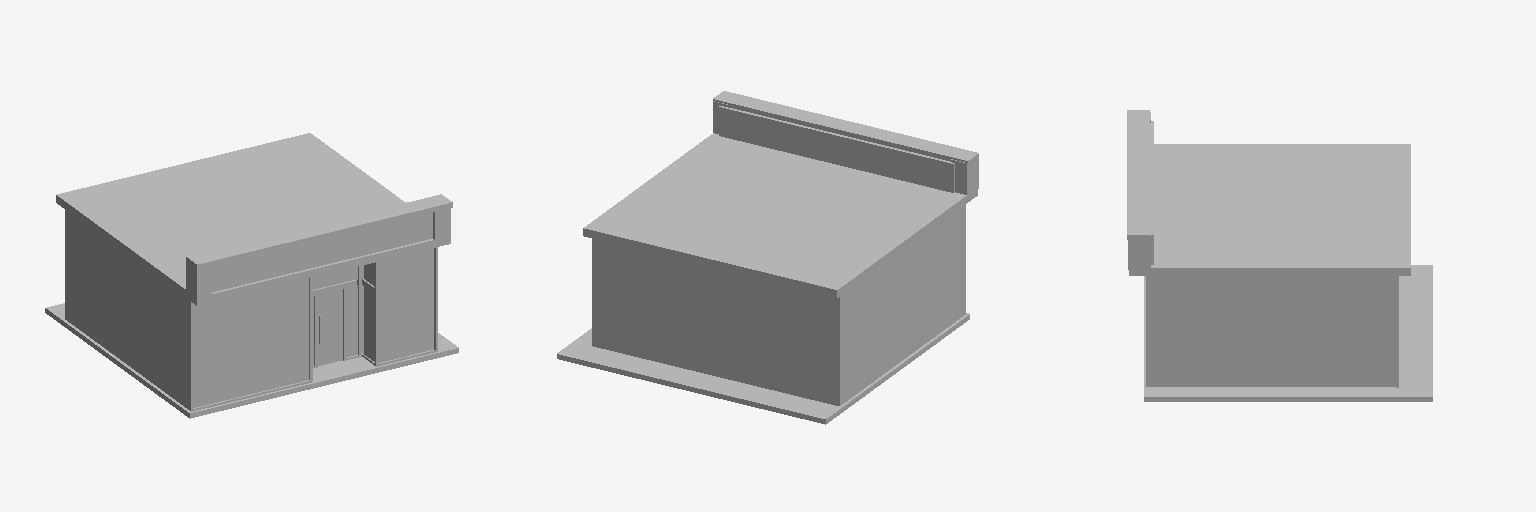
Rendered from Shopfront.obj.
3 renders of one model, left to right at view 1: azimuth 30°, elevation 25°; view 2: azimuth 150°, elevation 25°; view 3: azimuth 270°, elevation 25°, orthographic.
Parts seen in each view (by area): view 1: Window_(1); view 2: Window_(1); view 3: Window_(1).
Part boxes in pixels (x1,y1,x2,y2): Window_(1): (45, 133, 458, 418); Window_(1): (557, 91, 978, 424); Window_(1): (1127, 110, 1432, 401).
Size of the model in its own units: 5.05 by 2.86 by 4.94.